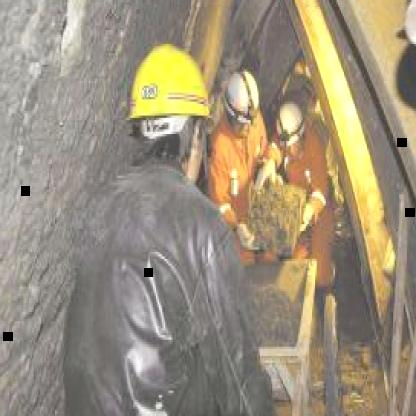helmet: (126, 42, 214, 127), (224, 67, 262, 125), (272, 100, 308, 150)
